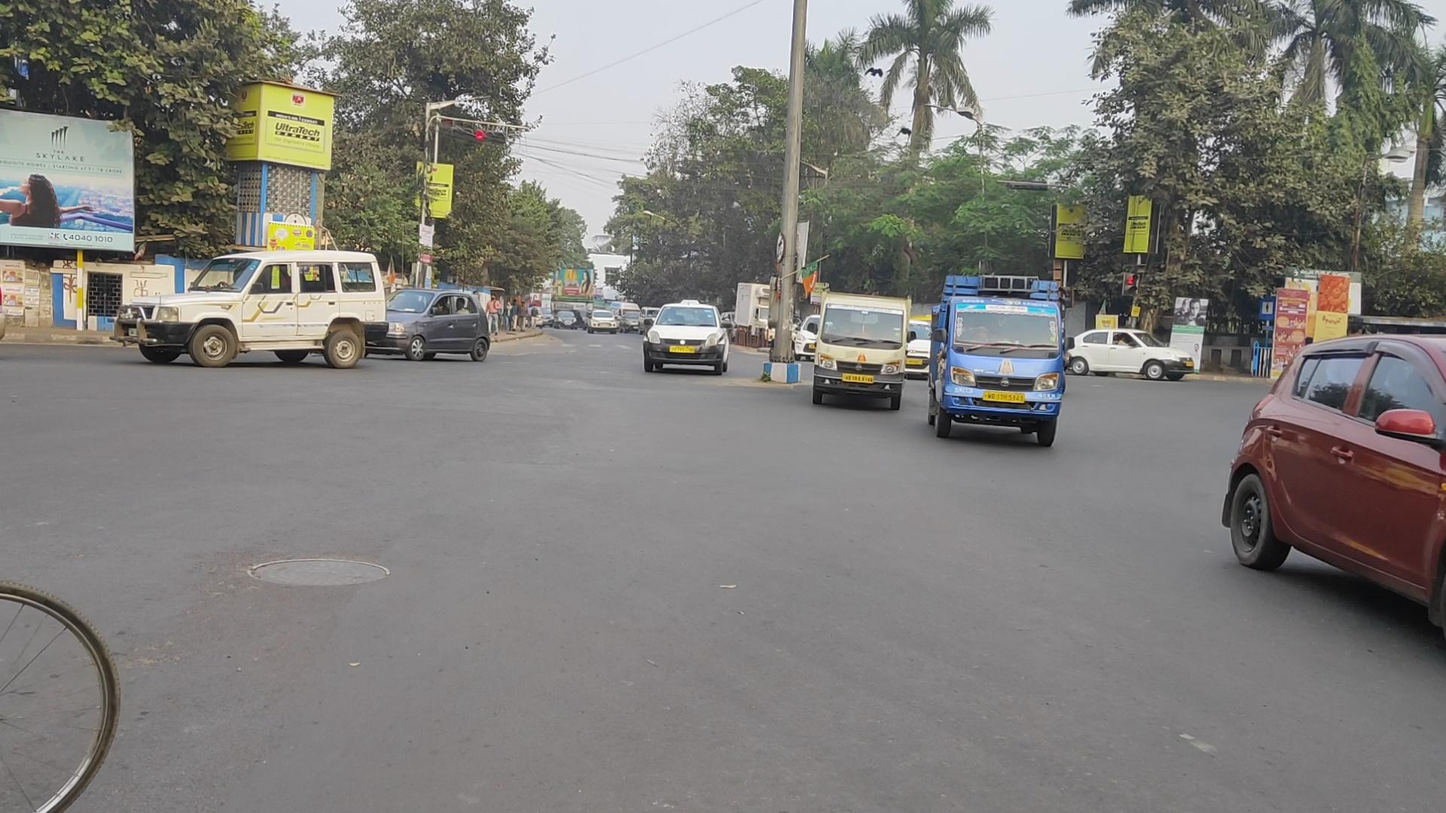car: (1221, 332, 1446, 646), (108, 249, 389, 370), (364, 289, 491, 362), (1064, 328, 1195, 381), (643, 299, 731, 375)
van: (927, 274, 1075, 448), (812, 291, 912, 410), (735, 282, 801, 347)
